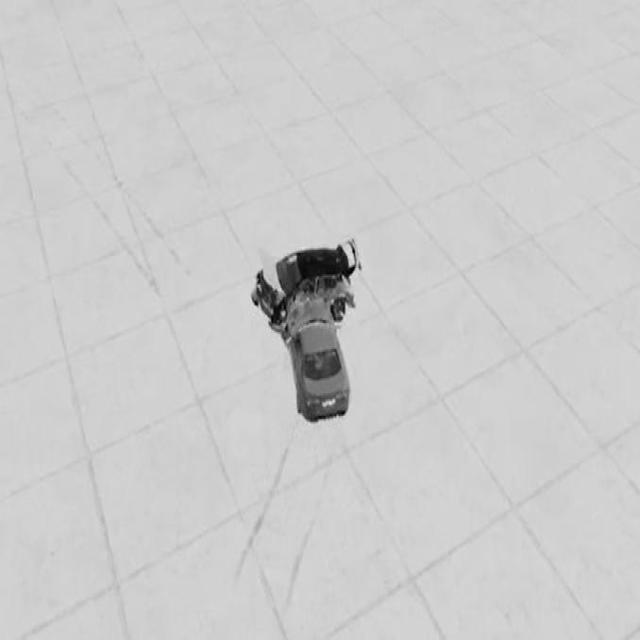accident: (248, 235, 367, 431)
